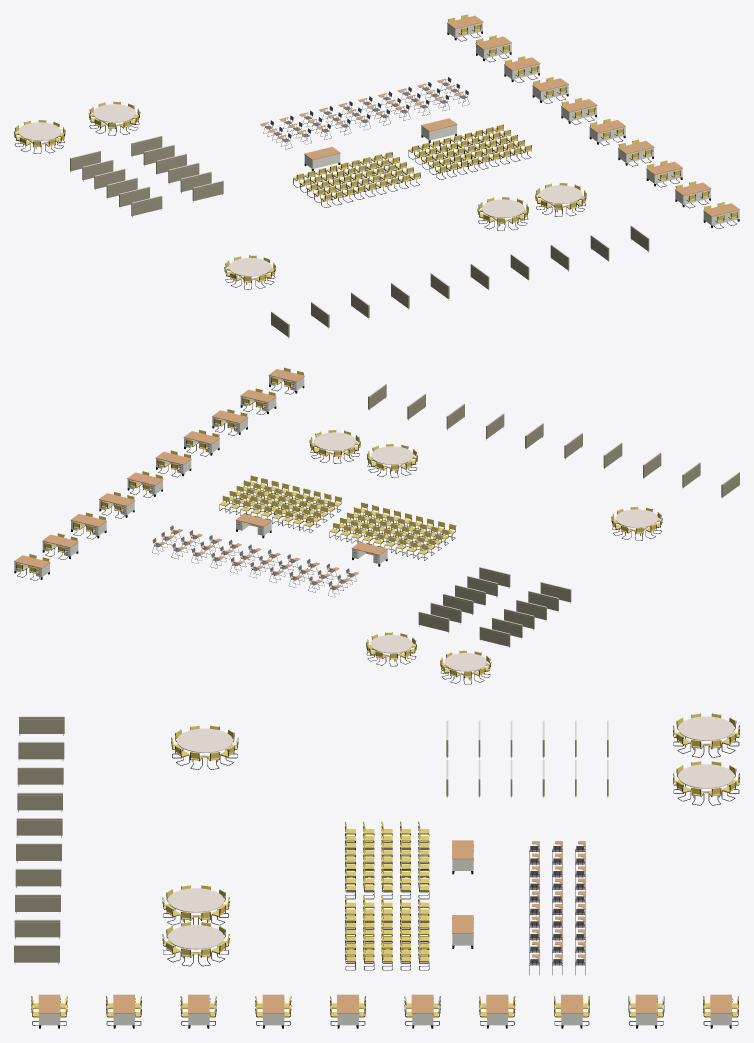
File: Zoll_Base_Version3_Level_3_IfcFurnishingElement.dae
3 renders of one model, top to bottom at view 1: azimuth 30°, elevation 25°; view 2: azimuth 150°, elevation 25°; view 3: azimuth 270°, elevation 25°, orthographic. The views are drawn at different scales.
Parts seen in each view (by area): view 1: 0heic_ZfD2dRZRO6DWdNjA, 0heic_ZfD2dRZRO6DWdNiW, 0heic_ZfD2dRZRO6DWdNjV, 0heic_ZfD2dRZRO6DWdNjy, 0heic_ZfD2dRZRO6DWdNj1, 1Fxnn4hDr8PeBXFyY0uK43, 1Fxnn4hDr8PeBXFyY0uKBf, 1Fxnn4hDr8PeBXFyY0uKqx, 1Fxnn4hDr8PeBXFyY0uKrF, 1Fxnn4hDr8PeBXFyY0uKrZ, 1Fxnn4hDr8PeBXFyY0uKxd, 1Fxnn4hDr8PeBXFyY0uKqb (+5 smaller); view 2: 0heic_ZfD2dRZRO6DWdNjy, 0heic_ZfD2dRZRO6DWdNjV, 0heic_ZfD2dRZRO6DWdNjA, 0heic_ZfD2dRZRO6DWdNj1, 0heic_ZfD2dRZRO6DWdNiW, 1Fxnn4hDr8PeBXFyY0uKBf, 1Fxnn4hDr8PeBXFyY0uK43; view 3: 0heic_ZfD2dRZRO6DWdNjV, 0heic_ZfD2dRZRO6DWdNjA, 0heic_ZfD2dRZRO6DWdNj1, 0heic_ZfD2dRZRO6DWdNiW, 0heic_ZfD2dRZRO6DWdNjy, 2rZdyHbHHAlhFQ6TGndSDM, 2rZdyHbHHAlhFQ6TGndS82, 2rZdyHbHHAlhFQ6TGndS8s, 2rZdyHbHHAlhFQ6TGndSFm, 2rZdyHbHHAlhFQ6TGndSEE, 2rZdyHbHHAlhFQ6TGndSFQ, 2rZdyHbHHAlhFQ6TGndS9q (+15 smaller).
Part boxes in pixels (x1,y1,x2,y2): 0heic_ZfD2dRZRO6DWdNjA: (539,185,582,212); 0heic_ZfD2dRZRO6DWdNiW: (93,104,135,130); 0heic_ZfD2dRZRO6DWdNjV: (18,122,60,149); 0heic_ZfD2dRZRO6DWdNjy: (229,258,271,284); 0heic_ZfD2dRZRO6DWdNj1: (482,199,524,226); 1Fxnn4hDr8PeBXFyY0uK43: (304,146,340,170); 1Fxnn4hDr8PeBXFyY0uKBf: (421,118,457,142); 1Fxnn4hDr8PeBXFyY0uKqx: (589,120,625,144); 1Fxnn4hDr8PeBXFyY0uKrF: (646,161,682,186); 1Fxnn4hDr8PeBXFyY0uKrZ: (703,203,739,227); 1Fxnn4hDr8PeBXFyY0uKxd: (532,78,568,102); 1Fxnn4hDr8PeBXFyY0uKqb: (618,141,654,165); 0heic_ZfD2dRZRO6DWdNjy: (615,509,658,535); 0heic_ZfD2dRZRO6DWdNjV: (444,653,486,679); 0heic_ZfD2dRZRO6DWdNjA: (314,432,356,458); 0heic_ZfD2dRZRO6DWdNj1: (371,446,413,472); 0heic_ZfD2dRZRO6DWdNiW: (370,635,412,661); 1Fxnn4hDr8PeBXFyY0uKBf: (236,514,271,538); 1Fxnn4hDr8PeBXFyY0uK43: (351,542,387,566); 0heic_ZfD2dRZRO6DWdNjV: (678,716,734,749); 0heic_ZfD2dRZRO6DWdNjA: (168,925,223,958); 0heic_ZfD2dRZRO6DWdNj1: (168,888,223,921); 0heic_ZfD2dRZRO6DWdNiW: (678,764,734,797); 0heic_ZfD2dRZRO6DWdNjy: (177,728,232,761); 2rZdyHbHHAlhFQ6TGndSDM: (18,741,64,761); 2rZdyHbHHAlhFQ6TGndS82: (14,919,60,939); 2rZdyHbHHAlhFQ6TGndS8s: (15,868,61,888); 2rZdyHbHHAlhFQ6TGndSFm: (17,792,62,812); 2rZdyHbHHAlhFQ6TGndSEE: (17,767,63,786); 2rZdyHbHHAlhFQ6TGndSFQ: (16,818,62,837); 2rZdyHbHHAlhFQ6TGndS9q: (14,945,59,964).
Size of the model in its own units: 30.8 by 31.65 by 0.9144.
